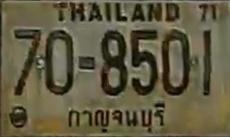0: (161, 28, 191, 94), (43, 29, 73, 94)
1: (202, 28, 212, 96)
5: (130, 28, 158, 94)
7: (13, 28, 41, 94)
8: (100, 30, 127, 94)
KRI: (64, 100, 171, 135)
